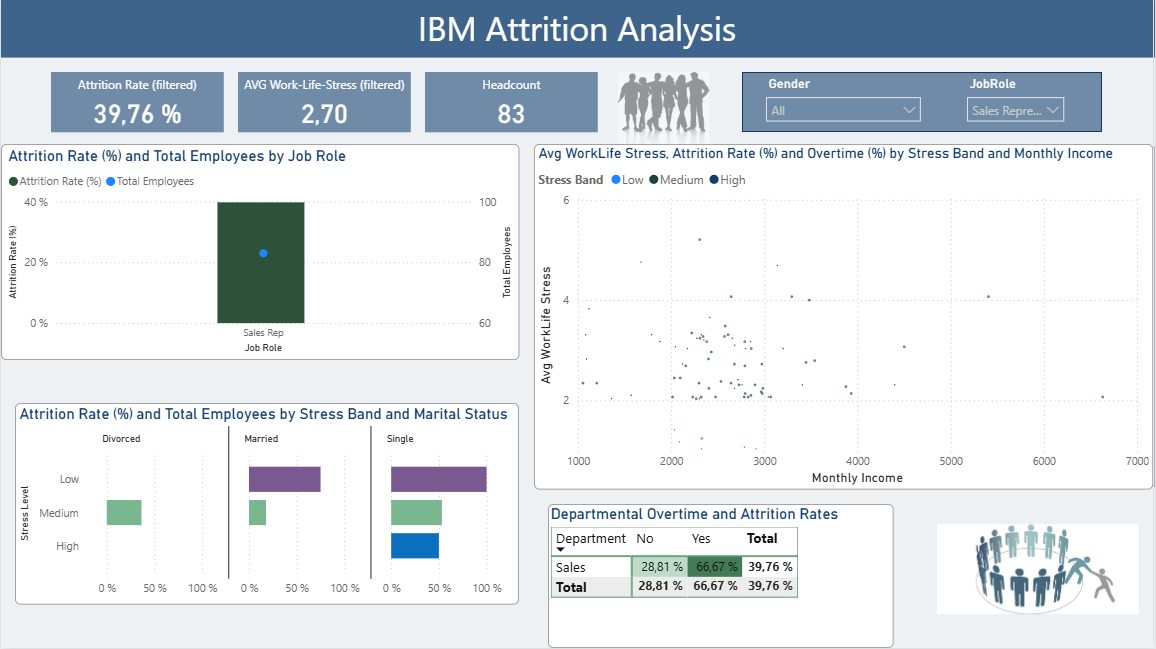

The page's visual inventory and layout, read from the dashboard file:
{"tool":"powerbi","page":{"name":"Attrition Takeaways","canvas":[1280,720],"ordinal":0},"visuals":[{"type":"textbox","box":[0,0,1280,64],"z":0},{"type":"card","fields":{"Values":["Employee_Facts.Total Employees"]},"box":[472,80,192,66.7],"z":1000,"group":"g2"},{"type":"lineStackedColumnComboChart","title":"Attrition Rate (%) and Total Employees by Job Role","fields":{"Y":["measures .Attrition Rate (%)"],"Y2":["measures .Total Employees"],"Category":["Employee_Facts.JobRole_Short"]},"box":[0,160,576,240],"z":2000},{"type":"card","fields":{"Values":["Employee_Facts.Avg WorkLife Stress"]},"box":[264,80,192,66.7],"z":3000,"group":"g2"},{"type":"pivotTable","title":"Departmental Overtime and Attrition Rates","fields":{"Rows":["Employee_Facts.Department"],"Columns":["Employee_Facts.OverTime"],"Values":["measures .Attrition Rate (%)"]},"box":[608,560,384,160],"z":4000},{"type":"card","fields":{"Values":["Employee_Facts.Attrition Rate (%)"]},"box":[56,80,192,66.7],"z":5000,"group":"g2"},{"type":"clusteredBarChart","title":"Attrition Rate (%) and Total Employees by Stress Band and Marital Status","fields":{"Category":["Employee_Facts.Stress Band"],"Y":["measures .Attrition Rate (%)"],"Rows":["Employee_Facts.MaritalStatus"]},"box":[16,448,560,224],"z":6000},{"type":"scatterChart","title":"Avg WorkLife Stress, Attrition Rate (%) and Overtime (%) by Stress Band and Monthly Income","fields":{"Series":["Employee_Facts.Stress Band"],"X":["Employee_Facts.MonthlyIncome"],"Y":["measures .Avg WorkLife Stress"],"Size":["measures .Attrition Rate (%)"]},"box":[592,160,688,384],"z":7000},{"type":"image","box":[1040,544,224,176],"z":8000},{"type":"shape","box":[824,80,400,66.7],"z":9000,"group":"g2"},{"type":"slicer","fields":{"Values":["Employee_Facts.JobRole"]},"box":[1064,80,128,66.7],"z":10000,"group":"g2"},{"type":"slicer","fields":{"Values":["Employee_Facts.Gender"]},"box":[840,80,192,66.7],"z":11000,"group":"g2"},{"type":"image","box":[680,80,112,80],"z":12000,"group":"g2"},{"type":"group","id":"g1","title":"Group 1","box":[56,80,1168,80],"z":12001},{"type":"group","id":"g2","title":"Group 2","box":[56,80,1168,80],"z":12002,"group":"g1"}]}

Visuals, with their boxes in screenshot pixels (x1, y1, x2, y2), scaled from the page's 1280x720 canvas onto the 1156x649 screenshot:
textbox: 0 0 1155 58
card - Employee_Facts.Total Employees: 426 72 600 132
"Attrition Rate (%) and Total Employees by Job Role" lineStackedColumnComboChart: 0 144 520 361
card - Employee_Facts.Avg WorkLife Stress: 238 72 412 132
"Departmental Overtime and Attrition Rates" pivotTable: 549 505 896 648
card - Employee_Facts.Attrition Rate (%): 51 72 224 132
"Attrition Rate (%) and Total Employees by Stress Band and Marital Status" clusteredBarChart: 14 404 520 606
"Avg WorkLife Stress, Attrition Rate (%) and Overtime (%) by Stress Band and Monthly Income" scatterChart: 535 144 1155 490
image: 939 490 1142 648
shape: 744 72 1105 132
slicer - Employee_Facts.JobRole: 961 72 1077 132
slicer - Employee_Facts.Gender: 759 72 932 132
image: 614 72 715 144
"Group 1" group: 51 72 1105 144
"Group 2" group: 51 72 1105 144
